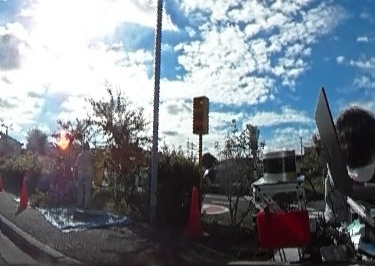person: (320, 103, 375, 239), (74, 138, 96, 212)
